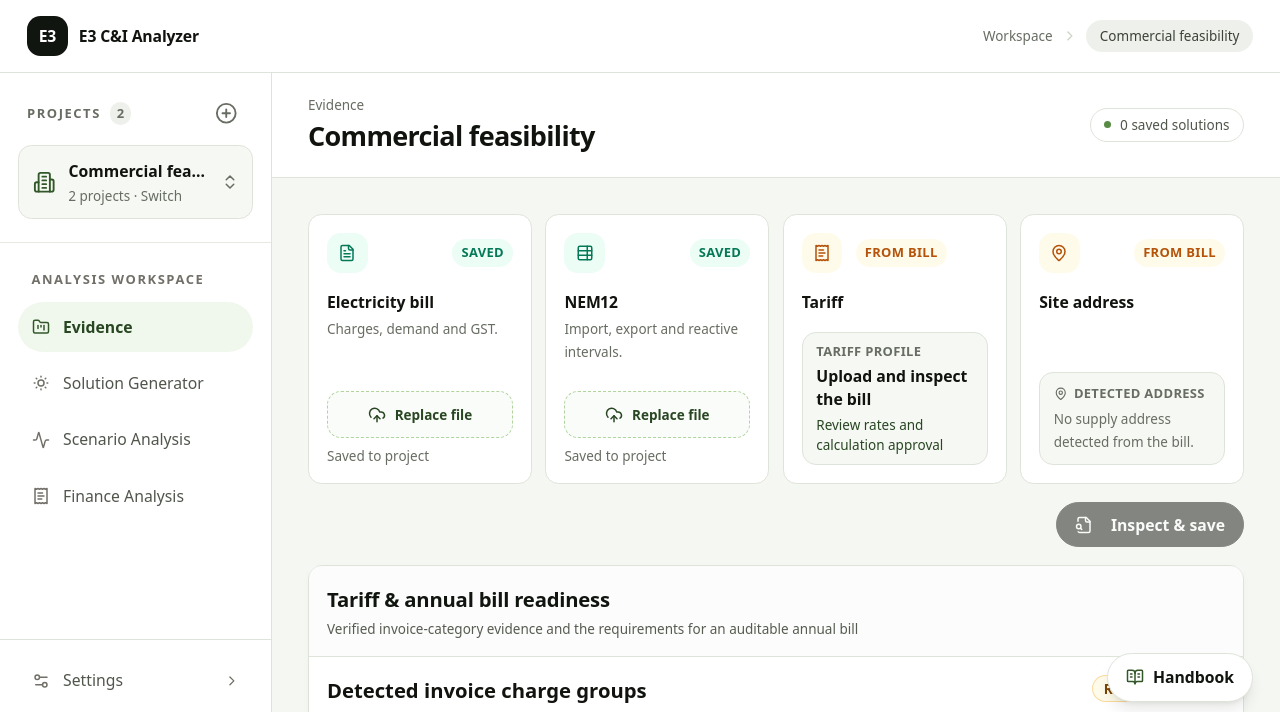
C&I project workspace › resets the generator form when switching projects
The image size is (1280, 712).
Check: the element named "Evidence sources" is shown, box [308,214,1244,484]
Click the button "Solution Generator": [136, 383] box [18,359,253,408]
(page scrolled)
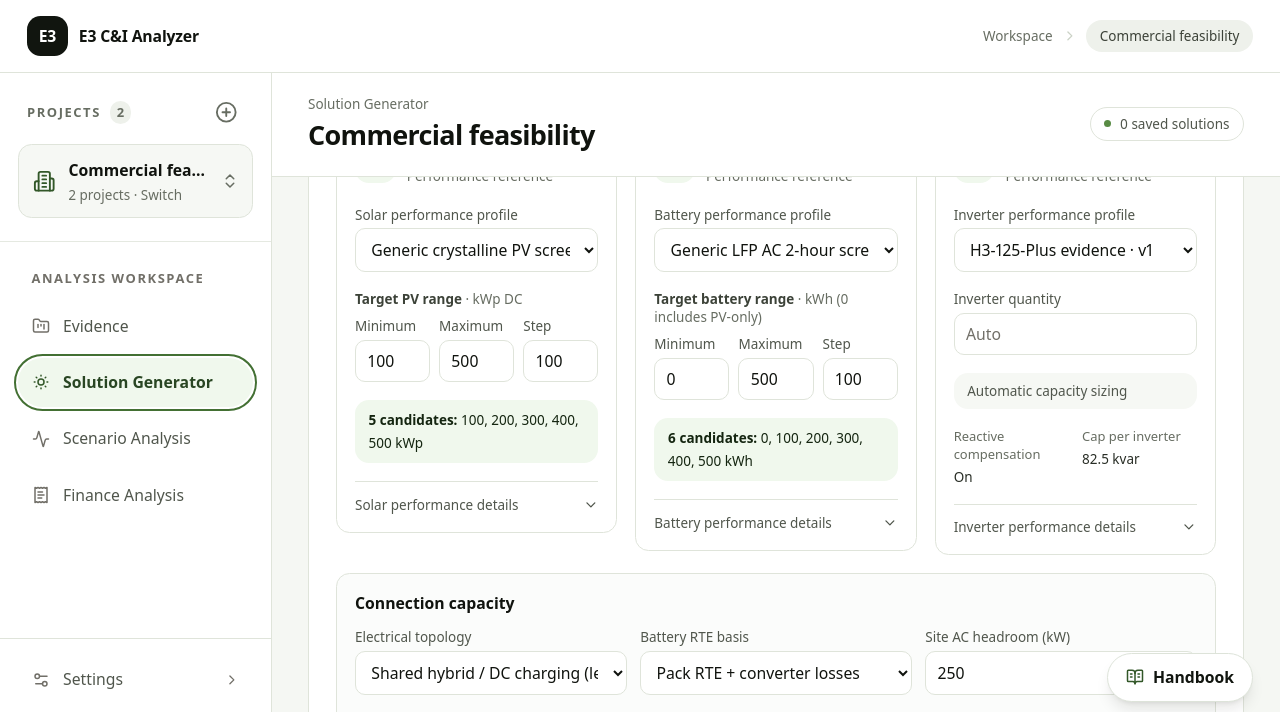
Replace the text in the number field labelled "Minimum" below "Target PV range" with "321": [393, 361] box [355,340,430,382]
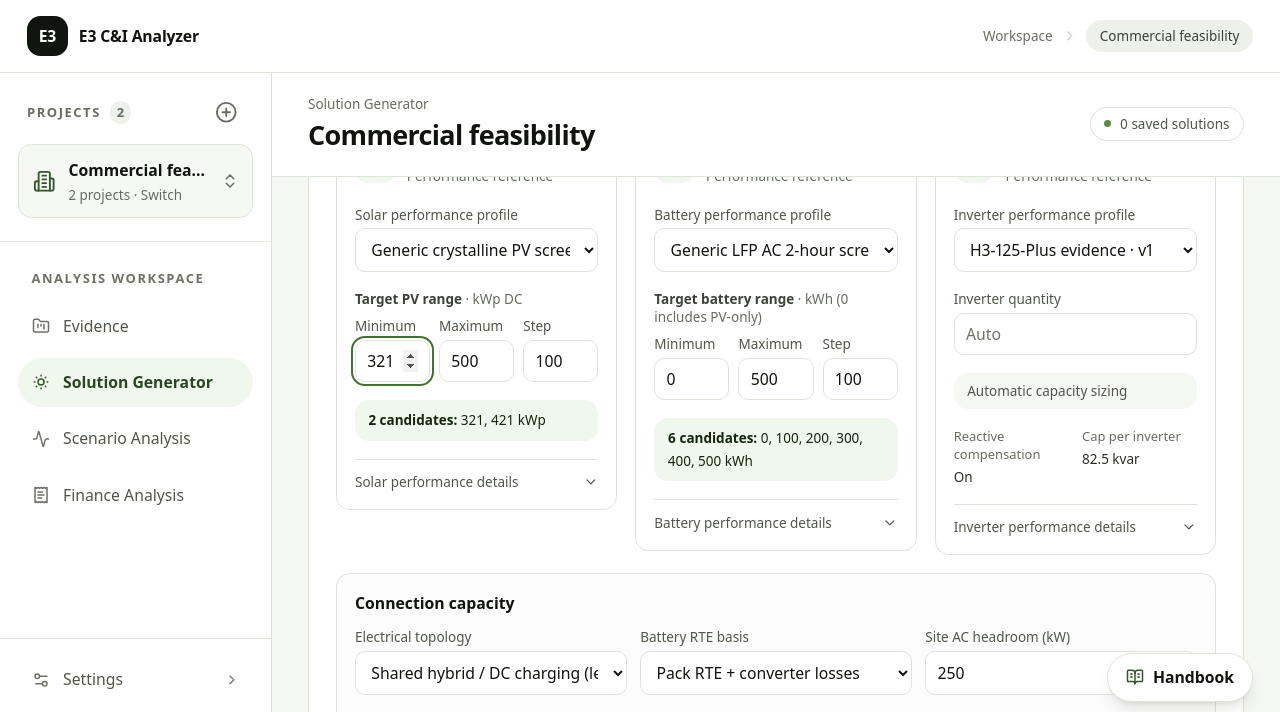
Click the heading named "Switch project": [136, 181] box [18,144,253,218]
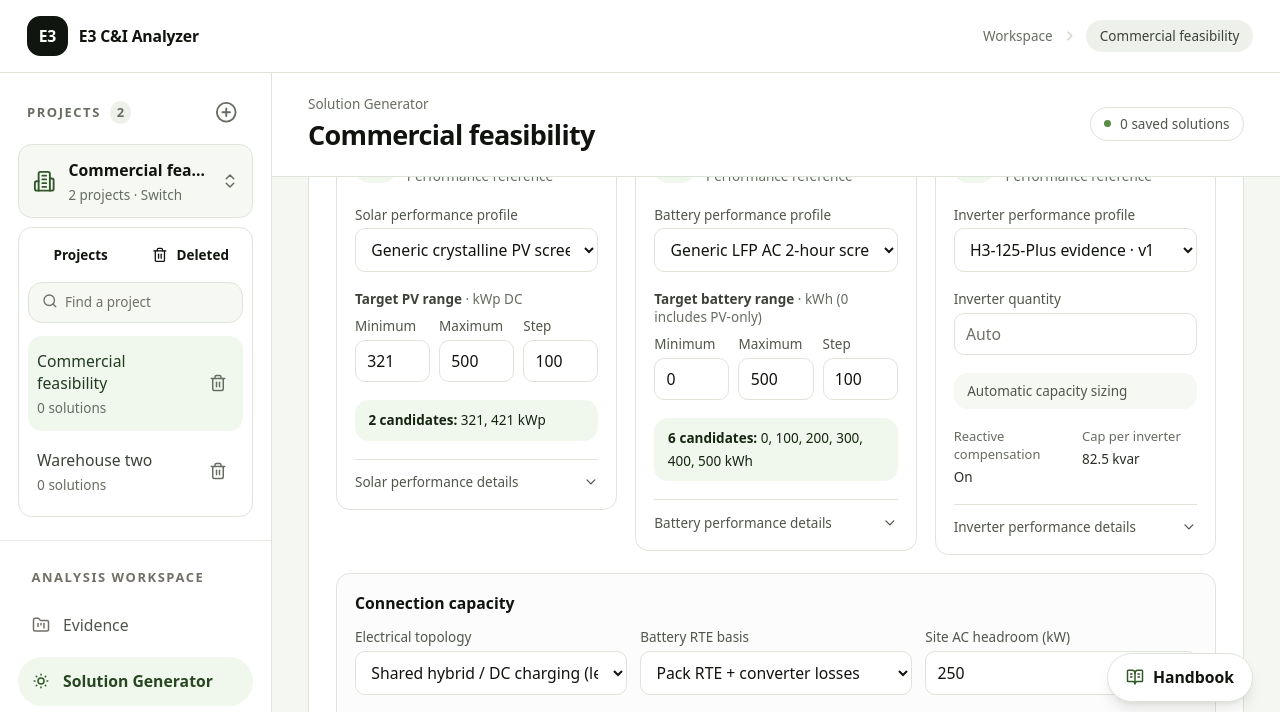
Click the button with aria-label "Open project Warehouse two": [111, 471] box [28,435,194,507]
(page scrolled)
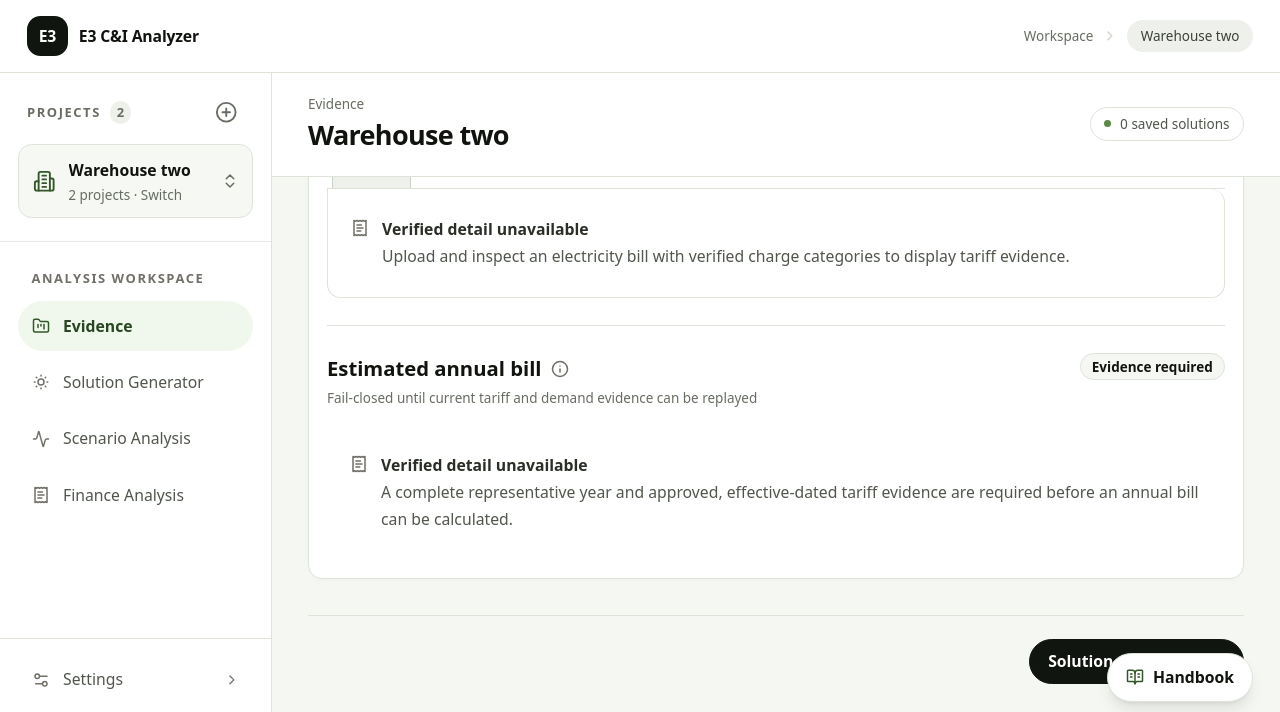
Click the button "Solution Generator": [136, 382] box [18,358,253,407]
(page scrolled)
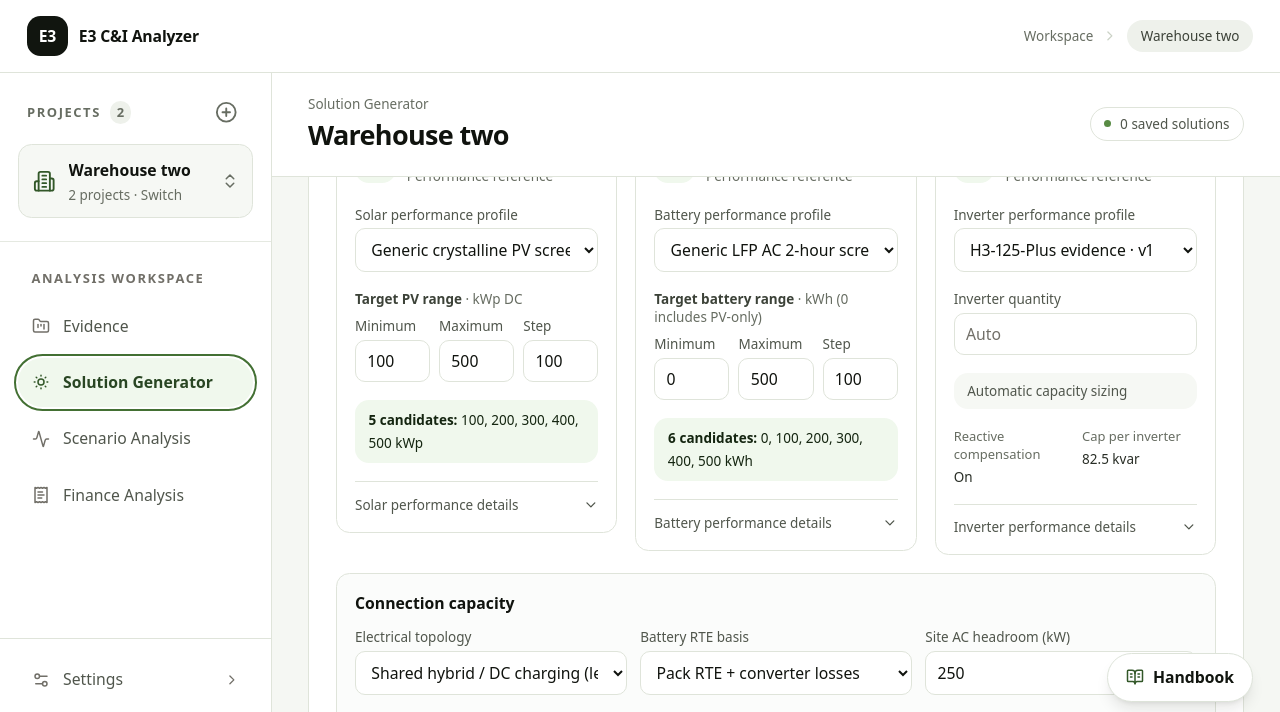
Check: the number field labelled "Minimum" below "Target PV range" holds "100", box [355,340,430,382]
